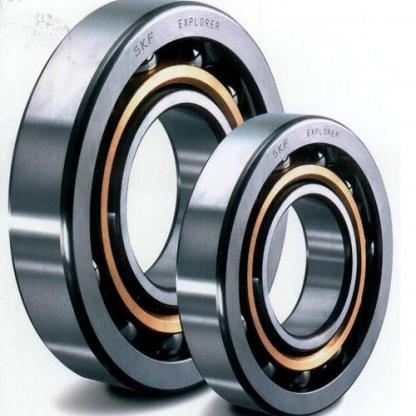FOD: (6, 0, 289, 399), (170, 110, 395, 415)
